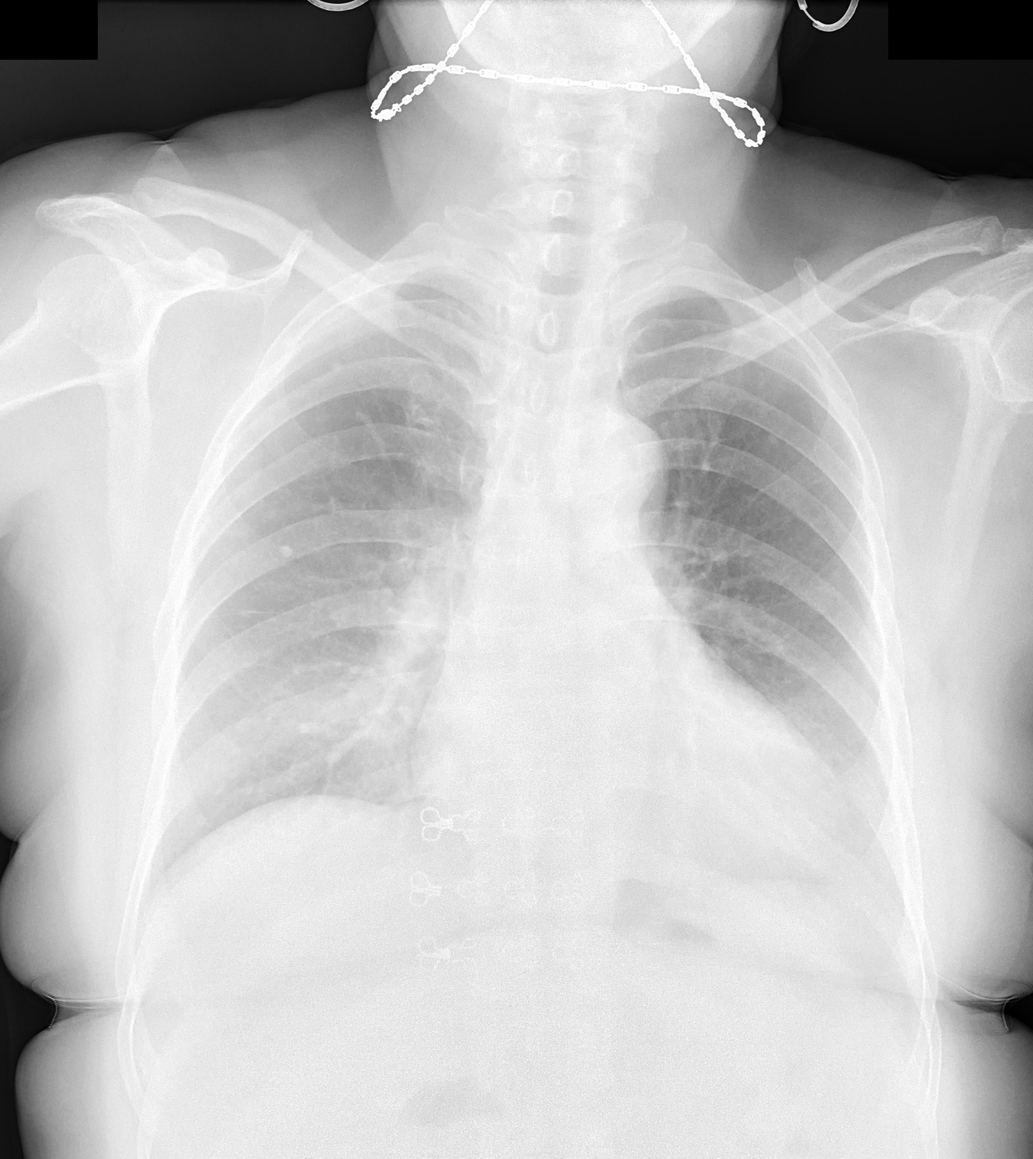Aortic enlargement: (552, 390, 672, 517)
Cardiomegaly: (397, 708, 872, 896)
